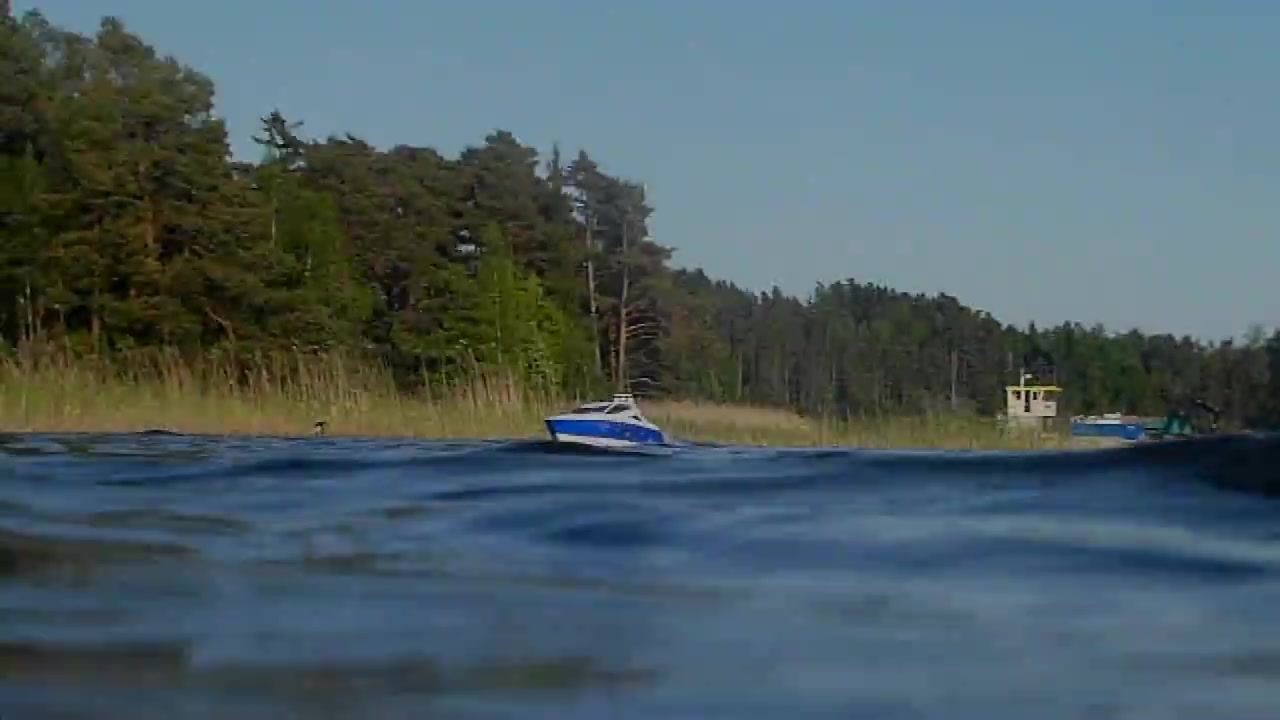boat: (538, 387, 673, 458)
